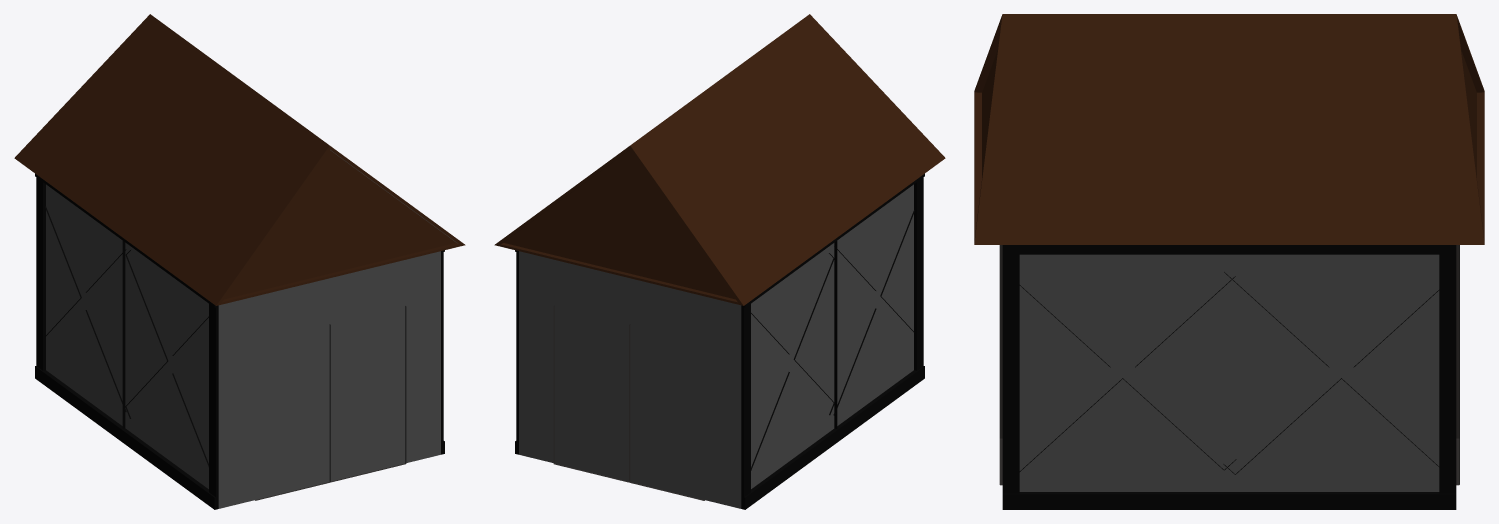
Rendered from Proch.fbx.
3 renders of one model, left to right at view 1: azimuth 30°, elevation 25°; view 2: azimuth 150°, elevation 25°; view 3: azimuth 270°, elevation 25°, orthographic. The views are drawn at different scales.
Parts seen in each view (by area): view 1: Cube.024; view 2: Cube.024; view 3: Cube.024.
Boxes of the visible parts, x1,y1,x2,y2 form: Cube.024: (14, 14, 465, 509); Cube.024: (494, 14, 945, 509); Cube.024: (974, 14, 1484, 509).
Bounding box in the file's own units: 330 × 425 × 463.
